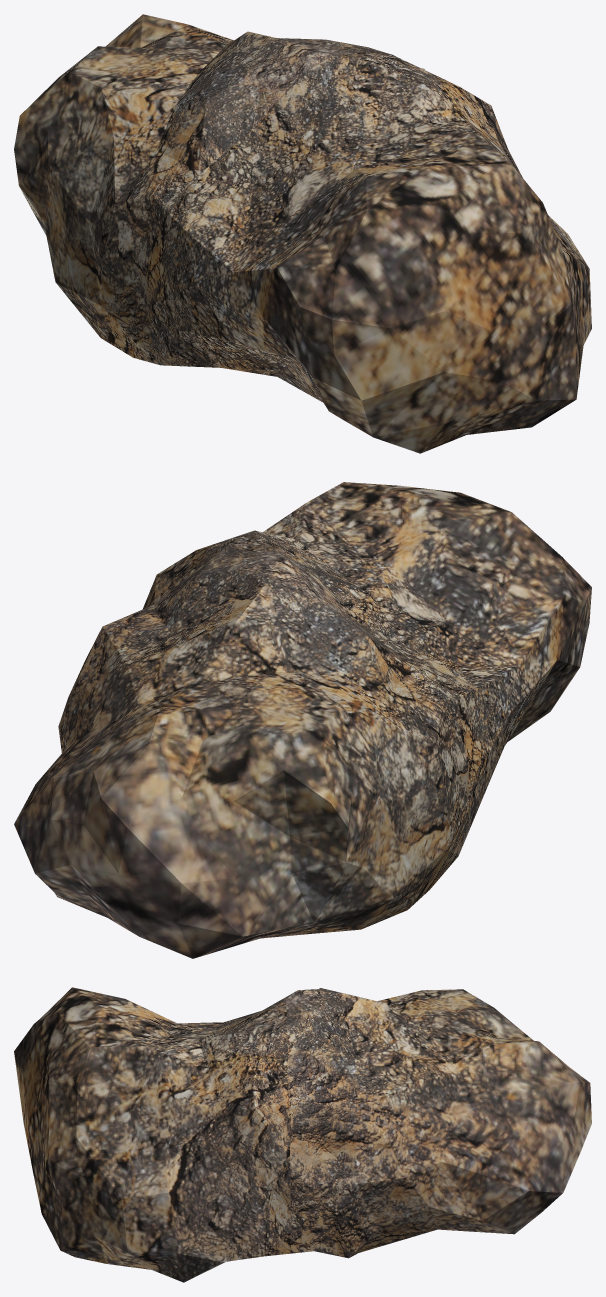
File: rock01.obj
3 renders of one model, top to bottom at view 1: azimuth 30°, elevation 25°; view 2: azimuth 150°, elevation 25°; view 3: azimuth 270°, elevation 25°, orthographic. The views are drawn at different scales.
Parts seen in each view (by area): view 1: Icosphere; view 2: Icosphere; view 3: Icosphere.
Boxes of the visible parts, bbox=[...] form: Icosphere: bbox=[14, 14, 591, 453]; Icosphere: bbox=[14, 482, 591, 958]; Icosphere: bbox=[14, 987, 591, 1282].
Bounding box in the file's own units: 2.05 × 1.55 × 3.46.
Materials: 1 (1 with a texture image).
